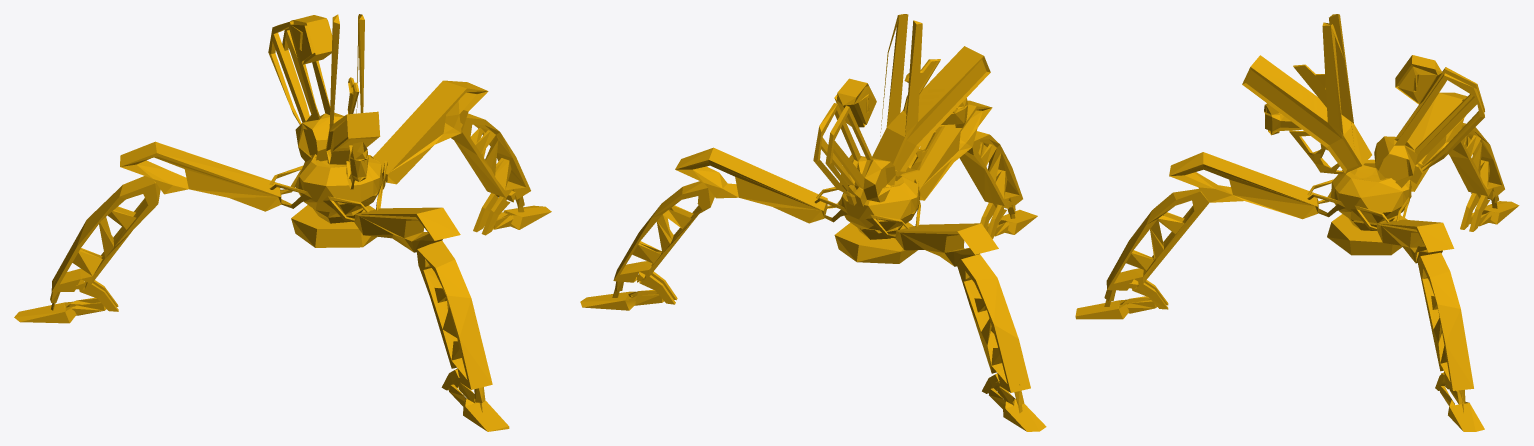
Rendered from mbt12.glb.
3 views of the same model, side by side, from view 1: azimuth 30°, elevation 25°; view 2: azimuth 150°, elevation 25°; view 3: azimuth 270°, elevation 25° (orthographic). The views are drawn at different scales.
Visible parts, largest first — view 1: uper, leg3, leg1, leg2; view 2: uper, leg2, leg3, leg1; view 3: uper, leg1, leg2, leg3.
Boxes of the visible parts, x1,y1,x2,y2 form: uper: (268, 14, 387, 247); leg3: (14, 141, 281, 323); leg1: (354, 199, 509, 431); leg2: (371, 80, 551, 235); uper: (813, 14, 990, 263); leg2: (580, 147, 827, 310); leg3: (895, 216, 1046, 431); leg1: (901, 100, 1037, 238); uper: (1242, 14, 1484, 255); leg1: (1075, 152, 1318, 319); leg2: (1377, 211, 1484, 431); leg3: (1408, 92, 1519, 231).
Bounding box in the file's own units: 5.05 × 3 × 4.11.
